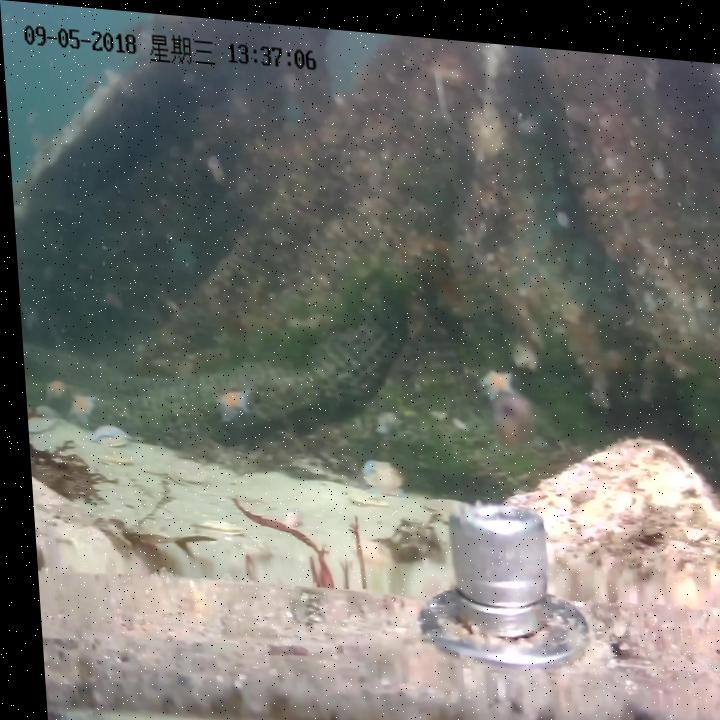scallop: (356, 454, 399, 490), (185, 509, 236, 537), (159, 456, 199, 485), (94, 450, 126, 469), (134, 458, 162, 476)
starfish: (210, 383, 250, 420), (62, 392, 99, 429), (475, 359, 510, 391), (83, 419, 121, 446), (39, 378, 66, 405)
